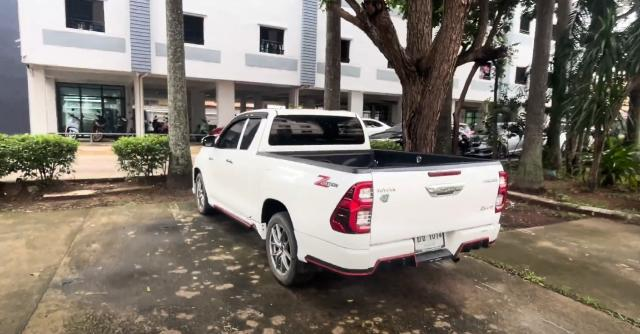pickup-truck: (192, 106, 510, 289)
